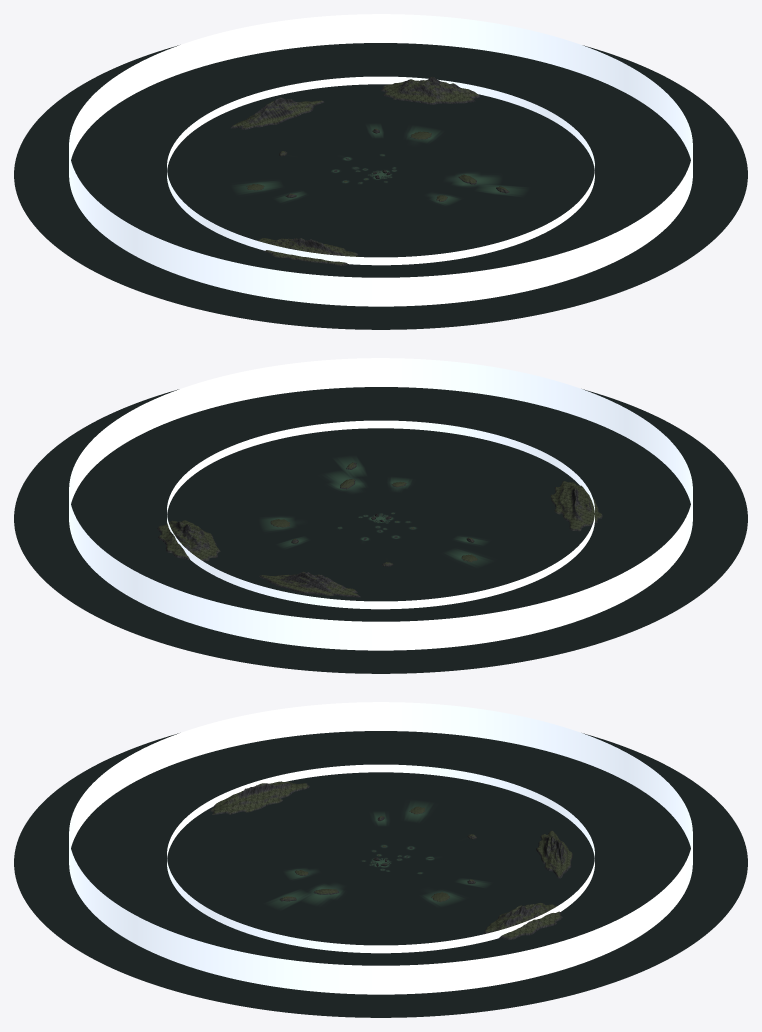
Rendered from backdrop_islands_mires_v2_summer.glb.
The picture shows the model from 3 angles, top to bottom: view 1: azimuth 30°, elevation 25°; view 2: azimuth 150°, elevation 25°; view 3: azimuth 270°, elevation 25°; orthographic projection.
Parts seen in each view (by area): view 1: horizon_fog, water_E, water_W, water_S, water_N, islets; view 2: horizon_fog, water_E, water_W, water_S, water_N, islets; view 3: horizon_fog, water_S, water_N, water_E, water_W, islets.
Part boxes in pixels (x1,y1,x2,y2): horizon_fog: (69, 14, 692, 306); water_E: (381, 45, 747, 214); water_W: (14, 134, 380, 324); water_S: (286, 175, 734, 329); water_N: (27, 43, 461, 174); islets: (231, 76, 509, 265); horizon_fog: (69, 358, 692, 650); water_E: (14, 389, 380, 558); water_W: (381, 478, 747, 668); water_S: (300, 387, 734, 518); water_N: (27, 519, 475, 673); islets: (157, 462, 602, 597); horizon_fog: (69, 702, 692, 994); water_S: (14, 753, 380, 972); water_N: (381, 753, 747, 972); water_E: (122, 863, 639, 1017); water_W: (122, 731, 639, 862); islets: (210, 781, 572, 939).
Bounding box in the file's own units: 6000 × 265 × 6000.
Materials: 3 (1 with a texture image).
